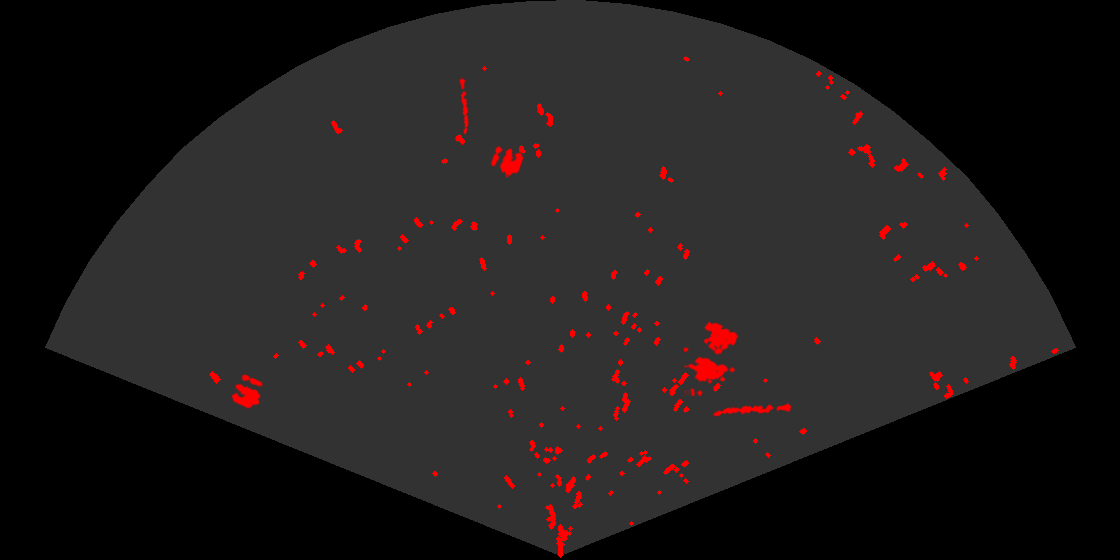ball: (230, 373, 265, 410), (489, 144, 525, 178)
cage: (684, 320, 740, 396)
chain: (712, 401, 792, 418), (458, 77, 470, 135)
